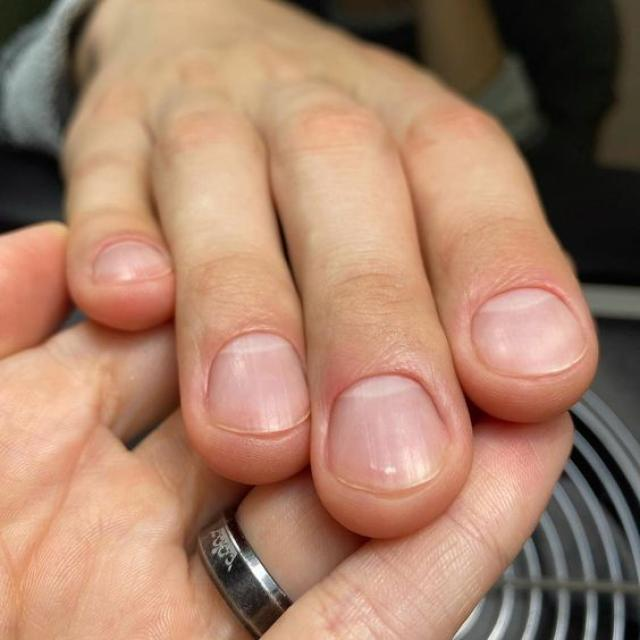Fingernail: (329, 375, 451, 491), (471, 287, 589, 377), (208, 331, 311, 433), (93, 240, 171, 285)
